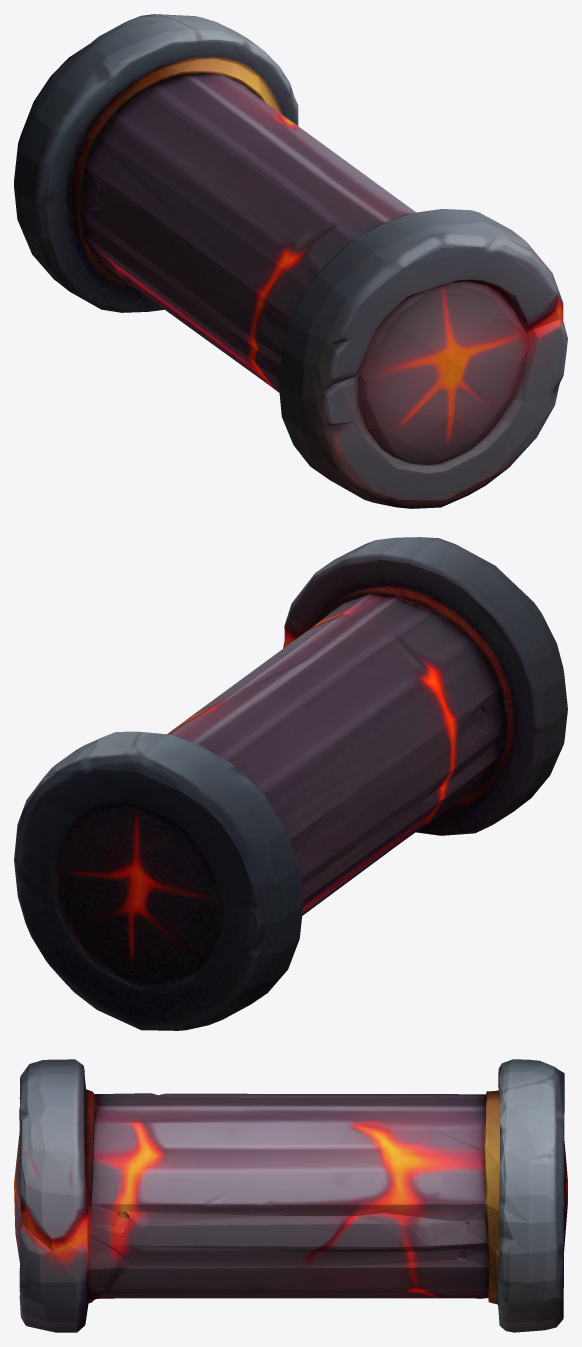
Rendered from lava_log.glb.
The picture shows the model from 3 angles, top to bottom: view 1: azimuth 30°, elevation 25°; view 2: azimuth 150°, elevation 25°; view 3: azimuth 270°, elevation 25°; orthographic projection. The views are drawn at different scales.
Parts seen in each view (by area): view 1: world; view 2: world; view 3: world.
Boxes of the visible parts, box(x1,y1,x2,y2) form: world: box(14, 14, 567, 508); world: box(14, 537, 567, 1030); world: box(14, 1059, 567, 1332).
Bounding box in the file's own units: 0.4922 × 0.4882 × 0.9946.
1 material, 1 textured.
